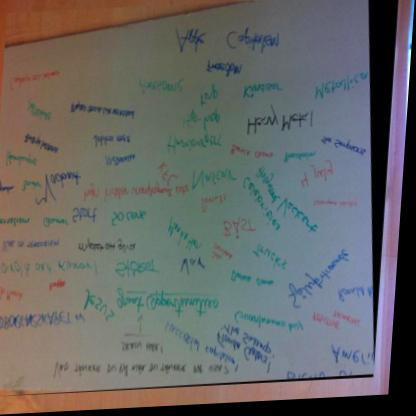Handwritten text: (54, 351, 229, 397), (276, 245, 360, 316), (115, 286, 233, 324), (165, 25, 292, 59), (0, 298, 83, 340), (188, 81, 290, 114), (71, 282, 130, 338), (82, 178, 192, 207), (229, 307, 319, 342), (158, 213, 215, 268), (238, 109, 326, 144), (18, 168, 88, 211), (250, 239, 302, 285), (226, 265, 284, 302), (160, 132, 230, 162), (307, 74, 370, 107), (190, 165, 245, 196), (113, 256, 168, 285), (131, 75, 187, 103), (85, 131, 142, 153), (1, 238, 71, 254), (204, 60, 249, 84), (280, 149, 328, 171), (121, 339, 176, 358), (175, 256, 211, 285), (222, 218, 262, 244), (100, 152, 143, 174), (72, 206, 102, 228)
